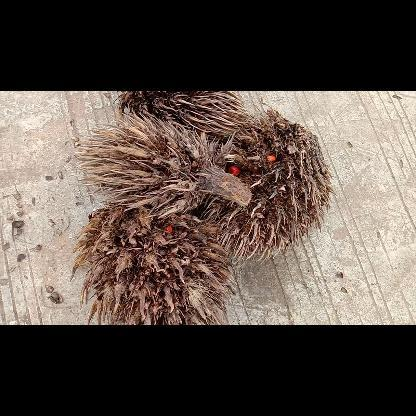Janjang kosong: (201, 108, 334, 264), (70, 206, 236, 324), (75, 112, 251, 218), (116, 90, 252, 140)
